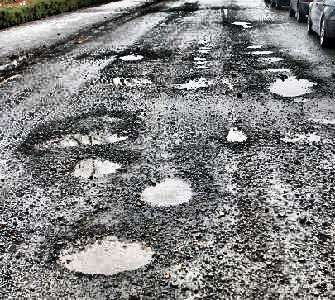pothole: (50, 227, 158, 275), (27, 112, 138, 149), (134, 171, 195, 209), (60, 150, 125, 180), (266, 73, 319, 97), (109, 72, 151, 88), (223, 126, 249, 143), (116, 52, 144, 61), (230, 18, 252, 28), (250, 47, 274, 54), (258, 55, 283, 60)
